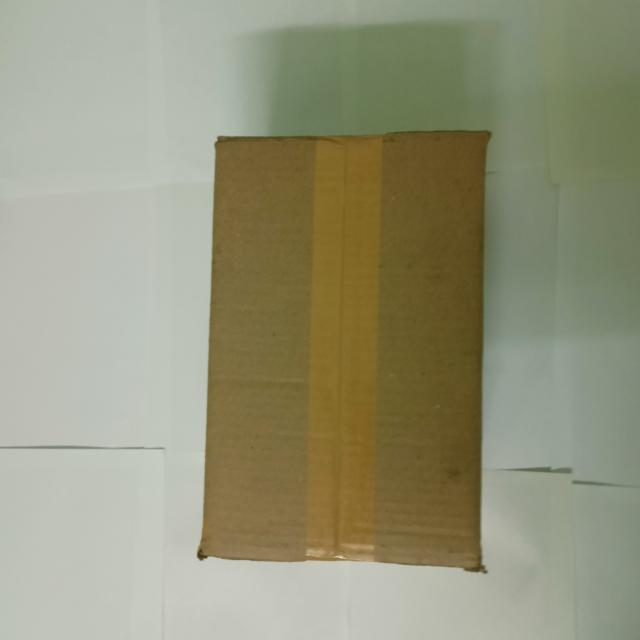box: (198, 132, 494, 576)
